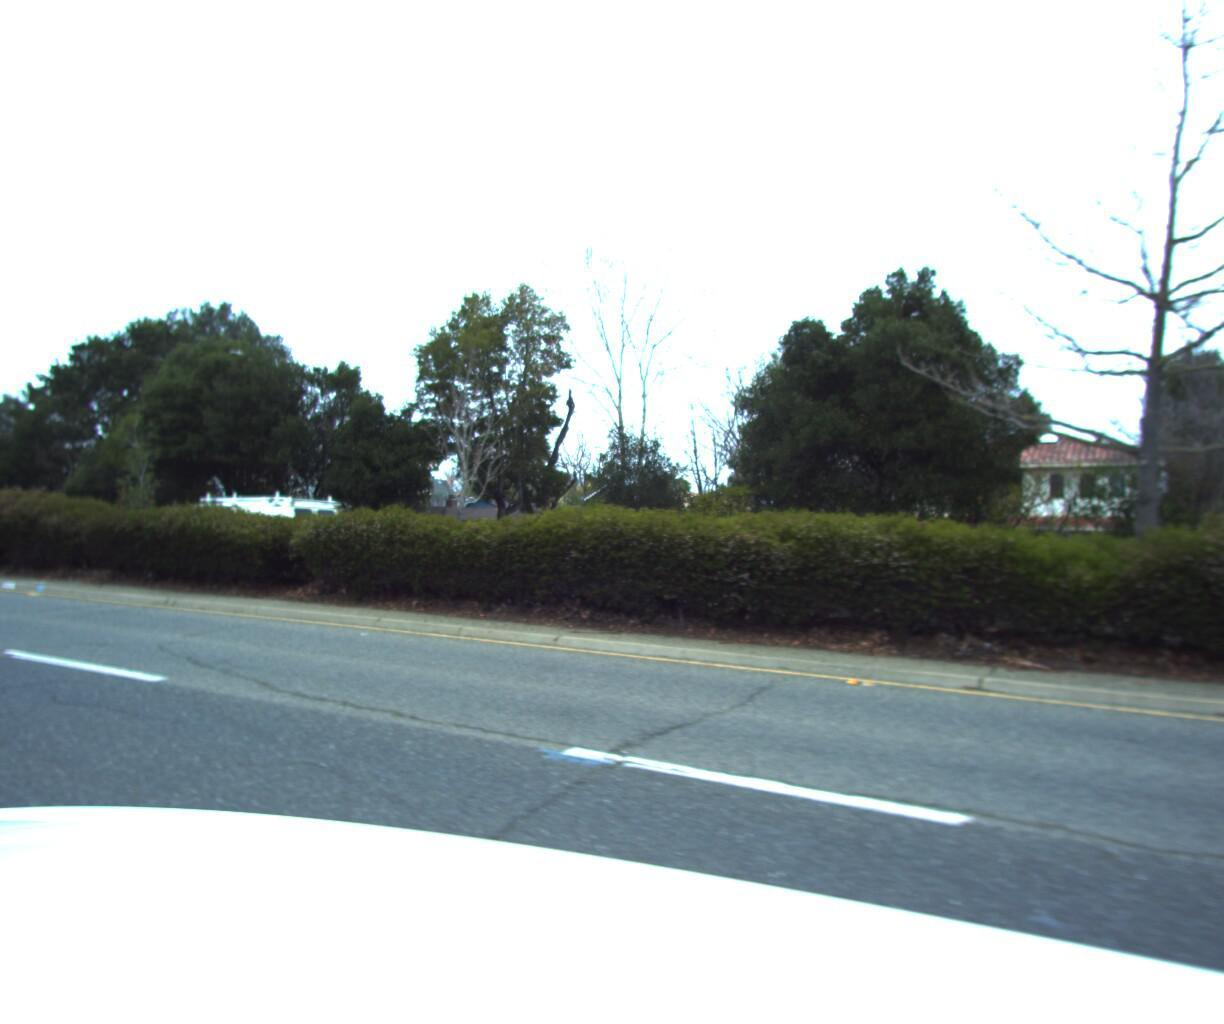car: (174, 490, 344, 573)
